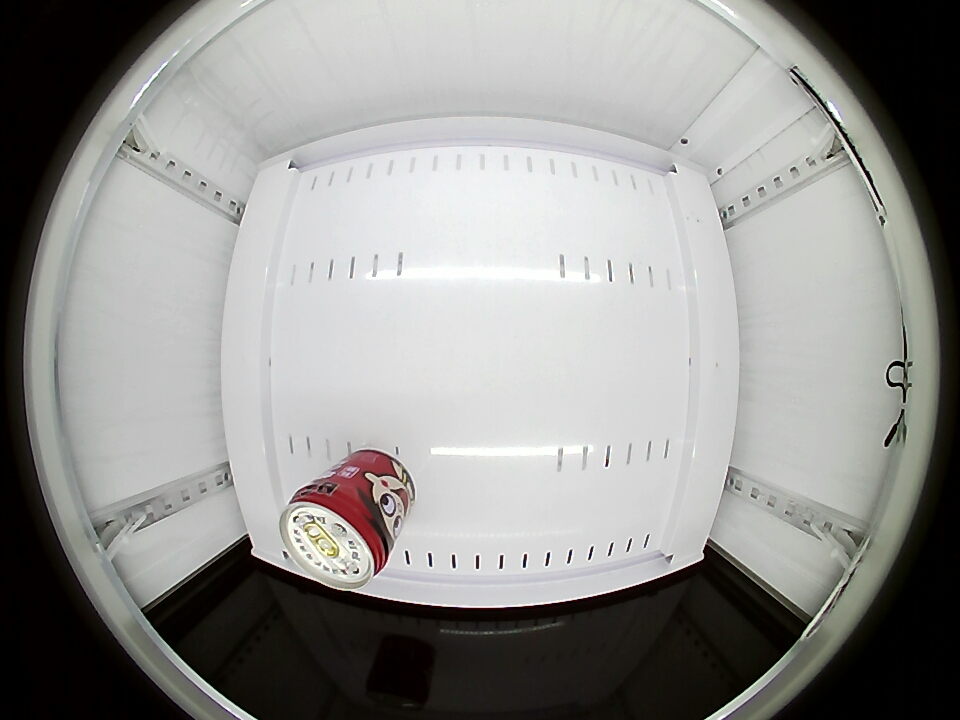wangzainiunai: (280, 476, 396, 590)
